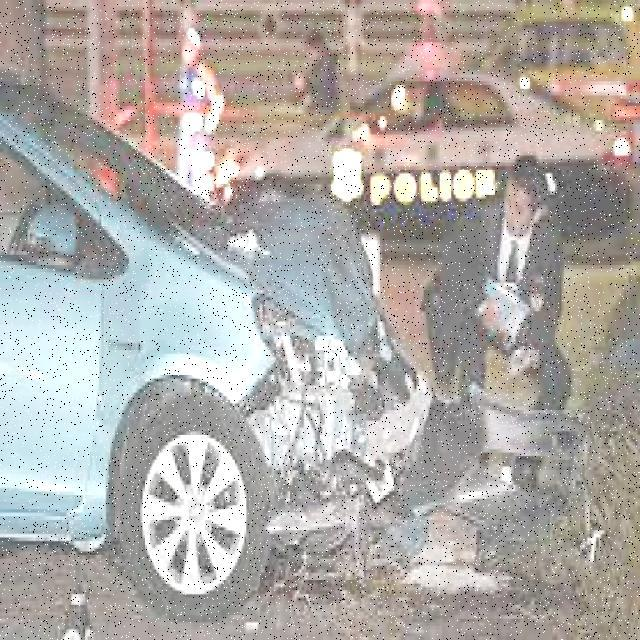car damage: (213, 190, 581, 590)
